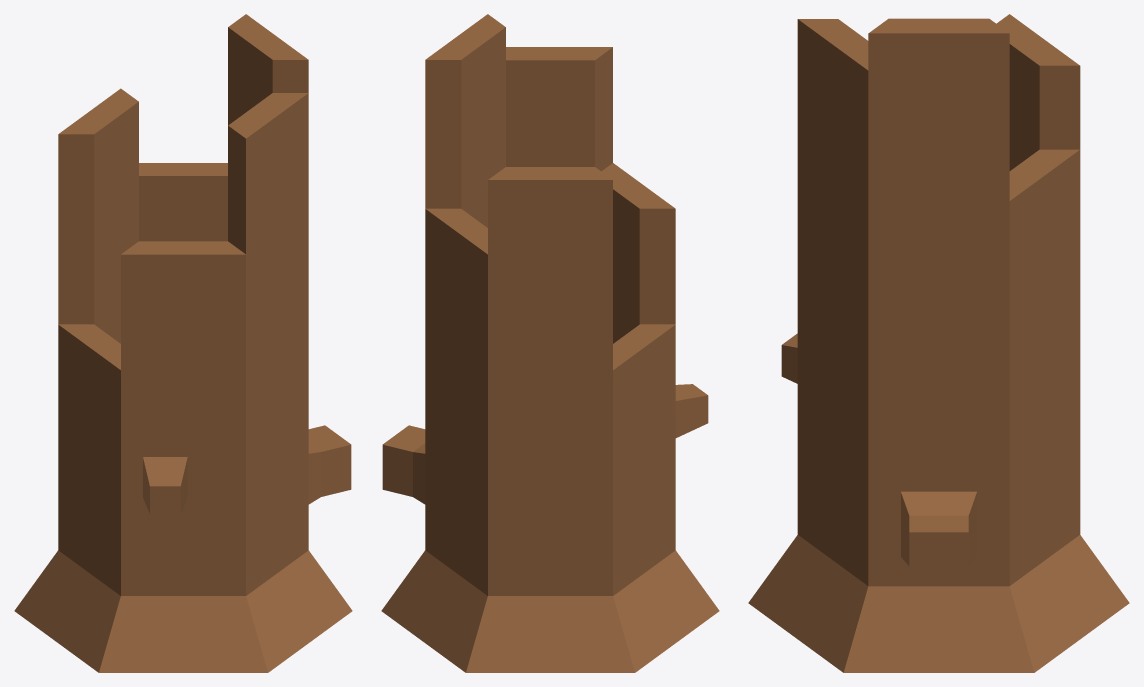
Rendered from stump_oldTall.glb.
3 renders of one model, left to right at view 1: azimuth 30°, elevation 25°; view 2: azimuth 150°, elevation 25°; view 3: azimuth 270°, elevation 25°, orthographic. The views are drawn at different scales.
Visible parts, largest first — view 1: stump_oldTall; view 2: stump_oldTall; view 3: stump_oldTall.
Boxes of the visible parts, x1,y1,x2,y2 form: stump_oldTall: (14, 14, 352, 672); stump_oldTall: (381, 14, 719, 672); stump_oldTall: (748, 14, 1129, 672).
Size of the model in its own units: 0.3565 by 0.6665 by 0.371.
